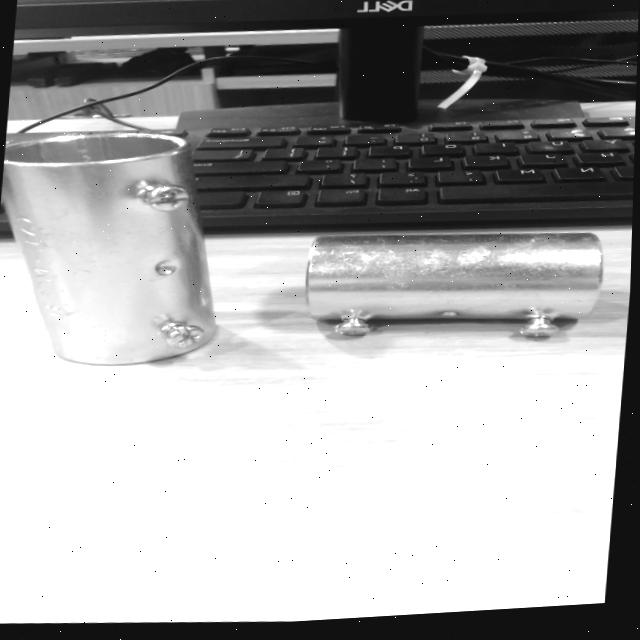Co_Lon: (0, 111, 220, 379)
Co_Nho: (301, 231, 606, 344)
